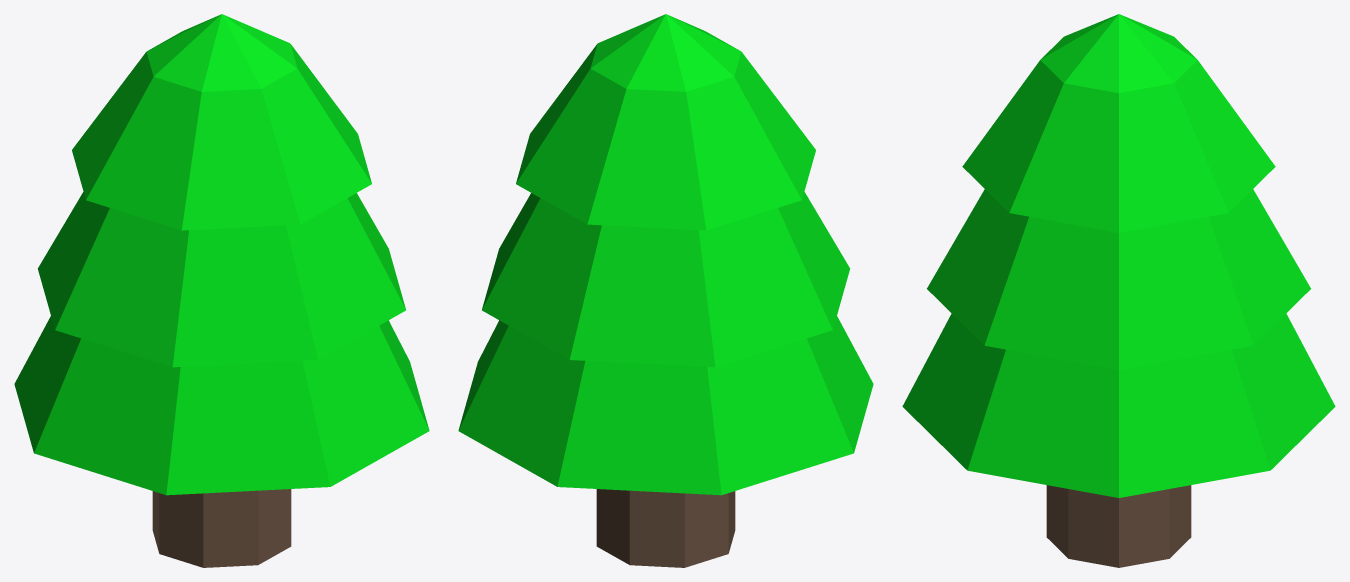
The model's file is tree.glb.
3 views of the same model, side by side, from view 1: azimuth 30°, elevation 25°; view 2: azimuth 150°, elevation 25°; view 3: azimuth 270°, elevation 25° (orthographic).
Parts seen in each view (by area): view 1: Cube; view 2: Cube; view 3: Cube.
Boxes of the visible parts, x1=… form: Cube: x1=14, y1=14, x2=429, y2=567; Cube: x1=458, y1=14, x2=873, y2=567; Cube: x1=902, y1=14, x2=1335, y2=567.
Size of the model in its own units: 6 by 8 by 6.
